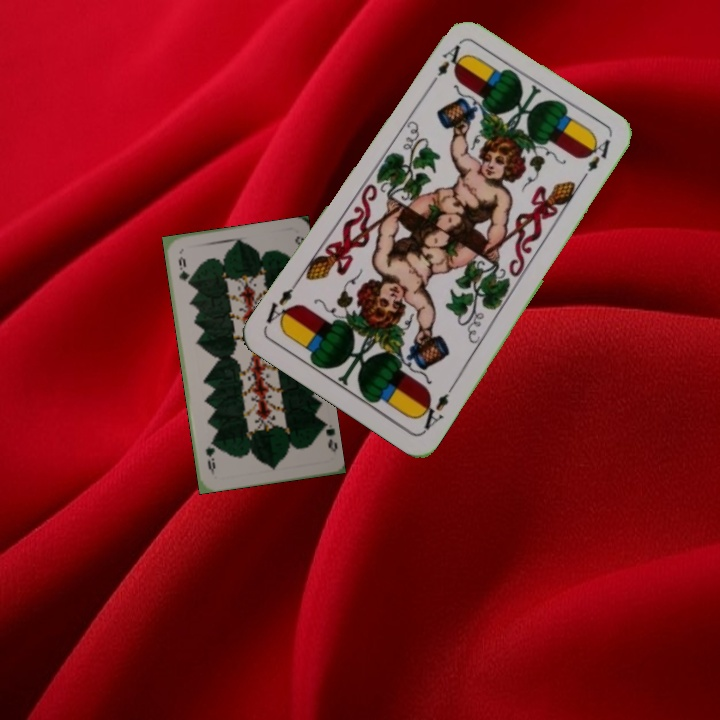EA: (414, 381, 456, 434), (425, 38, 463, 91)
G9: (315, 418, 338, 455), (174, 253, 192, 287)
